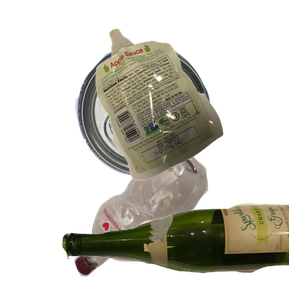glass: (60, 201, 300, 300)
metal: (73, 42, 277, 212)
plastic: (72, 142, 273, 300)
trash: (93, 26, 300, 200)
